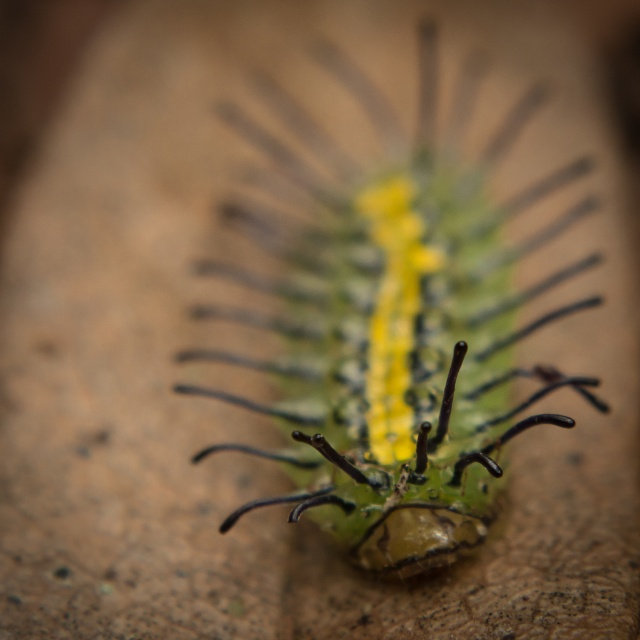Centipede: (167, 0, 614, 577)
